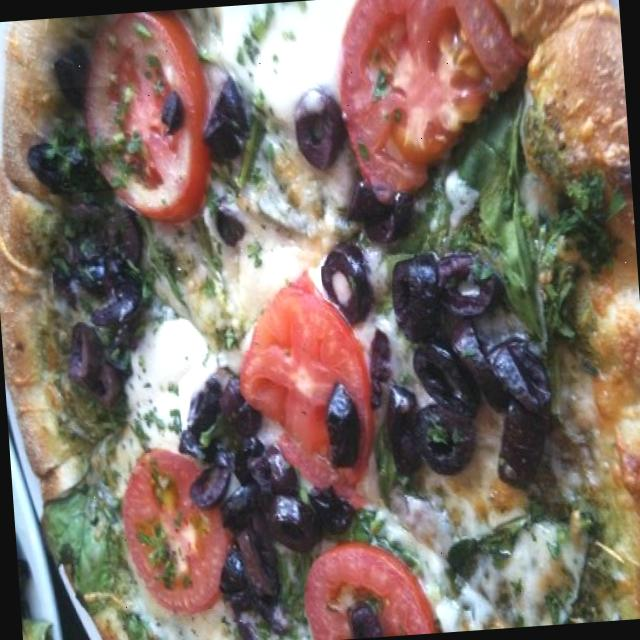Olive: (318, 229, 560, 502), (176, 346, 334, 624), (48, 214, 172, 425), (287, 82, 427, 267), (12, 36, 117, 225), (196, 51, 268, 180), (320, 366, 368, 484)
basil: (449, 63, 617, 347), (35, 446, 142, 636), (470, 498, 616, 630), (32, 84, 138, 195)
pizza: (0, 0, 640, 640)
tomato: (317, 0, 542, 218), (225, 273, 399, 485), (76, 7, 222, 241), (115, 426, 232, 629), (283, 526, 443, 640)
